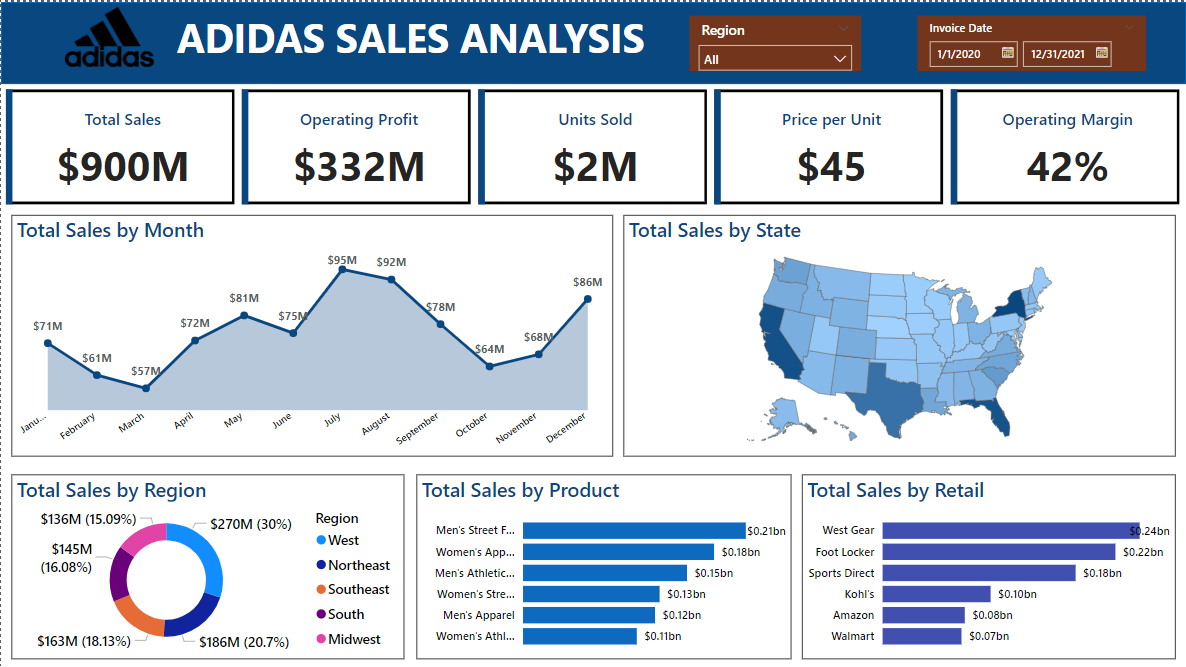

What the dashboard file says about the page in this screenshot:
{"tool":"powerbi","page":{"name":"Page 1","canvas":[1280,720],"ordinal":0},"visuals":[{"type":"shape","box":[0,0,1279.4,88.8],"z":0},{"type":"textbox","box":[0,184.5,1279,150],"z":1000},{"type":"cardVisual","fields":{"Data":["Sum(Data Sales Adidas.Total Sales)","Sum(Data Sales Adidas.Operating Profit)","Sum(Data Sales Adidas.Units Sold)","Avg(Data Sales Adidas.Price per Unit)","Avg(Data Sales Adidas.Operating Margin)"]},"box":[0,89.1,1280.8,134.4],"z":2000},{"type":"areaChart","title":"Total Sales by Month","fields":{"Y":["Sum(Data Sales Adidas.Total Sales)"],"Category":["Data Sales Adidas.Invoice Date.Variation.Date Hierarchy.Month"]},"box":[11.3,229.9,649.3,260.7],"z":3000},{"type":"donutChart","title":"Total Sales by Region","fields":{"Category":["Data Sales Adidas.Region"],"Y":["Sum(Data Sales Adidas.Total Sales)"]},"box":[11.3,510.1,424.2,199.2],"z":4000},{"type":"clusteredBarChart","title":"Total Sales by Product","fields":{"Category":["Data Sales Adidas.Product"],"Y":["Sum(Data Sales Adidas.Total Sales)"]},"box":[448.5,510.1,404.8,199.2],"z":5000},{"type":"clusteredBarChart","title":"Total Sales by Retail","fields":{"Y":["Sum(Data Sales Adidas.Total Sales)"],"Category":["Data Sales Adidas.Retailer"]},"box":[864.7,510.1,403.2,199.2],"z":6000},{"type":"slicer","fields":{"Values":["Data Sales Adidas.Region"]},"box":[743.3,15,185,60],"z":7000},{"type":"slicer","fields":{"Values":["Data Sales Adidas.Invoice Date"]},"box":[990,15,246.7,60],"z":8000},{"type":"textbox","box":[185,3.3,528.3,85],"z":9000},{"type":"image","box":[25,0,185,75],"z":10000},{"type":"shapeMap","title":"Total Sales by State","fields":{"Category":["Data Sales Adidas.State"],"Value":["Sum(Data Sales Adidas.Total Sales)"]},"box":[672,229.9,595.9,260.7],"z":11000}]}

Visuals, with their boxes in screenshot pixels (x1, y1, x2, y2), scaled from the page's 1280x720 canvas onto the 1186x667 screenshot:
shape: (left=0, top=0, right=1185, bottom=82)
textbox: (left=0, top=171, right=1185, bottom=310)
cardVisual - Sum(Data Sales Adidas.Total Sales) x Sum(Data Sales Adidas.Operating Profit): (left=0, top=83, right=1185, bottom=207)
"Total Sales by Month" areaChart: (left=10, top=213, right=612, bottom=454)
"Total Sales by Region" donutChart: (left=10, top=473, right=404, bottom=657)
"Total Sales by Product" clusteredBarChart: (left=416, top=473, right=791, bottom=657)
"Total Sales by Retail" clusteredBarChart: (left=801, top=473, right=1175, bottom=657)
slicer - Data Sales Adidas.Region: (left=689, top=14, right=860, bottom=69)
slicer - Data Sales Adidas.Invoice Date: (left=917, top=14, right=1146, bottom=69)
textbox: (left=171, top=3, right=661, bottom=82)
image: (left=23, top=0, right=195, bottom=69)
"Total Sales by State" shapeMap: (left=623, top=213, right=1175, bottom=454)
